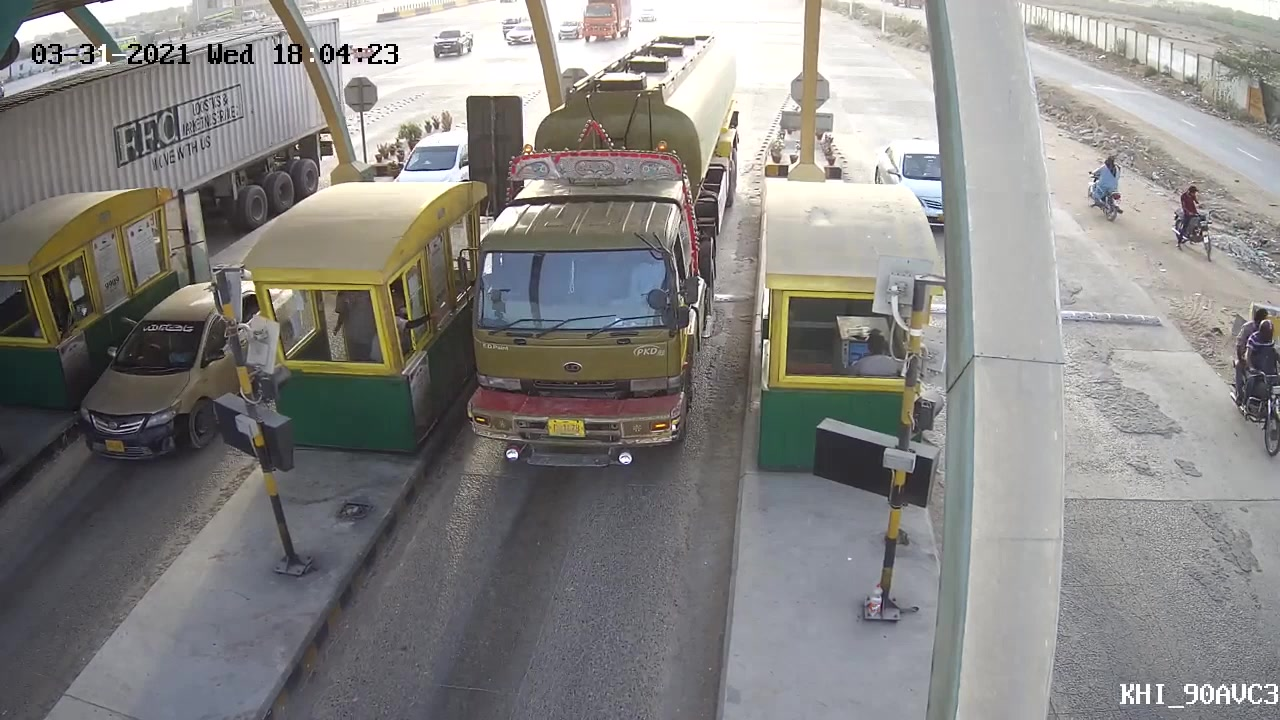F6: (460, 27, 740, 479)
